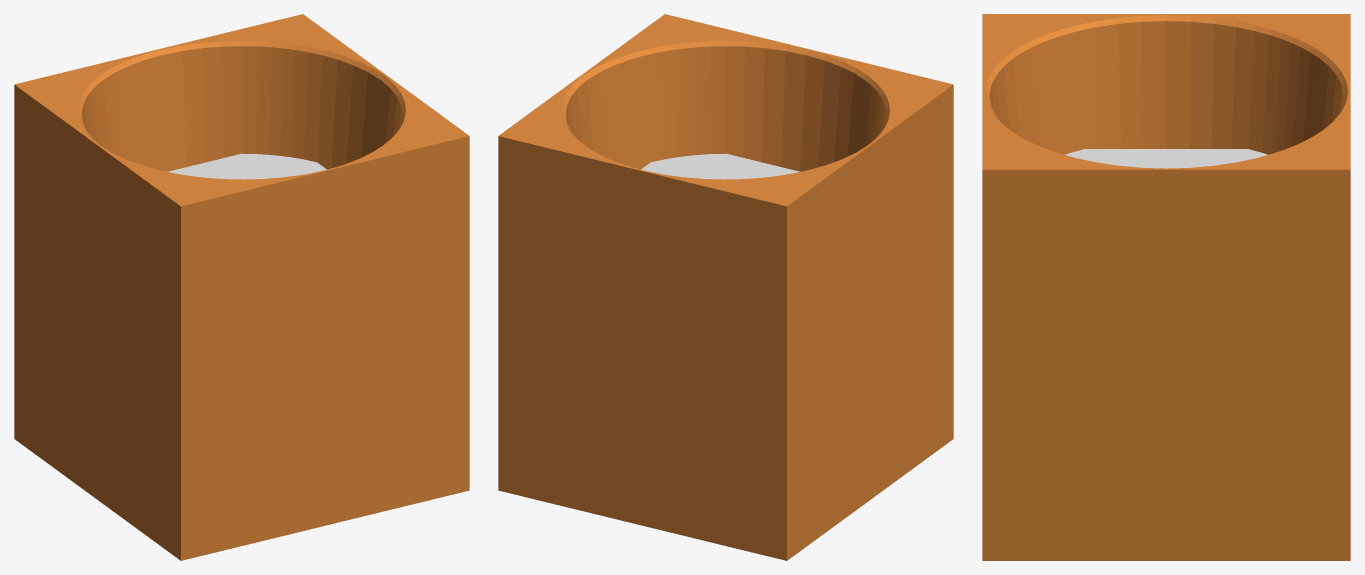
File: basic_cup.glb
3 renders of one model, left to right at view 1: azimuth 30°, elevation 25°; view 2: azimuth 150°, elevation 25°; view 3: azimuth 270°, elevation 25°, orthographic. The views are drawn at different scales.
Visible parts, largest first — view 1: cup, cup_sensor; view 2: cup, cup_sensor; view 3: cup, cup_sensor.
Part boxes in pixels (x1,y1,x2,y2): cup: [14, 14, 469, 560]; cup_sensor: [167, 153, 326, 179]; cup: [498, 14, 953, 560]; cup_sensor: [641, 153, 800, 179]; cup: [982, 14, 1350, 560]; cup_sensor: [1065, 149, 1267, 168].
Size of the model in its own units: 3.53 by 4.14 by 3.53.
